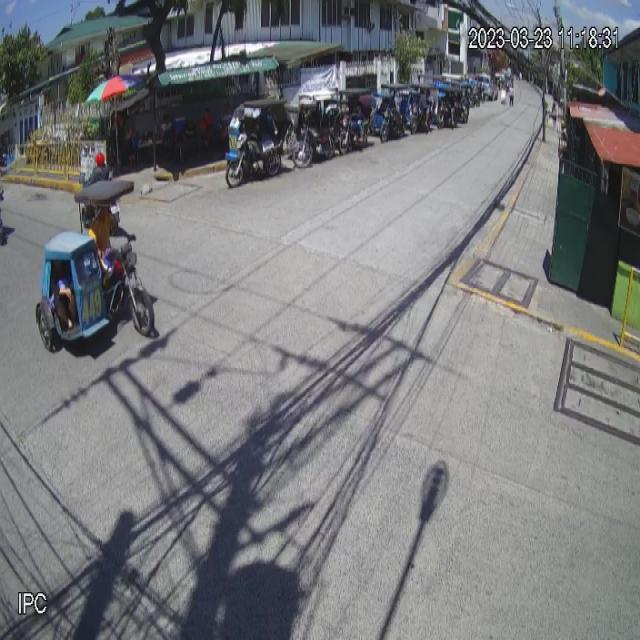Tricycle: (34, 178, 156, 352)
